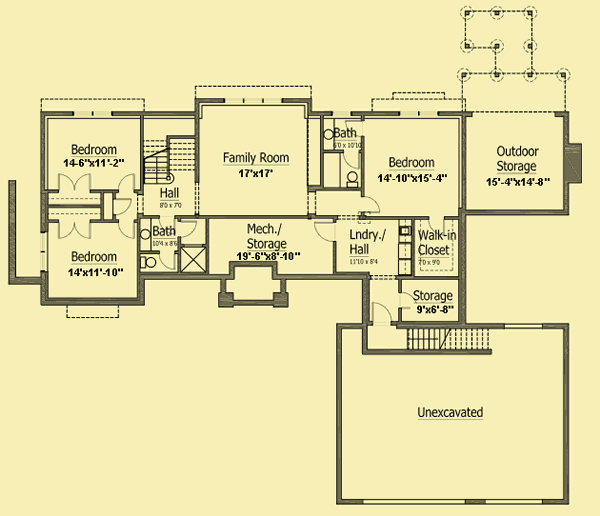door: (55, 171, 95, 194), (55, 218, 94, 241), (312, 218, 341, 243), (370, 300, 395, 326), (340, 146, 363, 172), (109, 194, 134, 217), (425, 212, 450, 235), (113, 218, 137, 241), (358, 193, 382, 215), (175, 217, 200, 238), (396, 289, 422, 309), (344, 118, 367, 139), (116, 172, 138, 193), (154, 250, 177, 269), (156, 214, 178, 232)
large sink: (138, 253, 159, 273)
small sink: (139, 215, 153, 252), (323, 118, 335, 150)
stairs: (364, 323, 494, 357), (141, 130, 197, 190)
windows: (221, 94, 287, 107), (71, 107, 116, 122), (499, 319, 545, 333), (394, 108, 442, 121), (38, 229, 51, 274)
